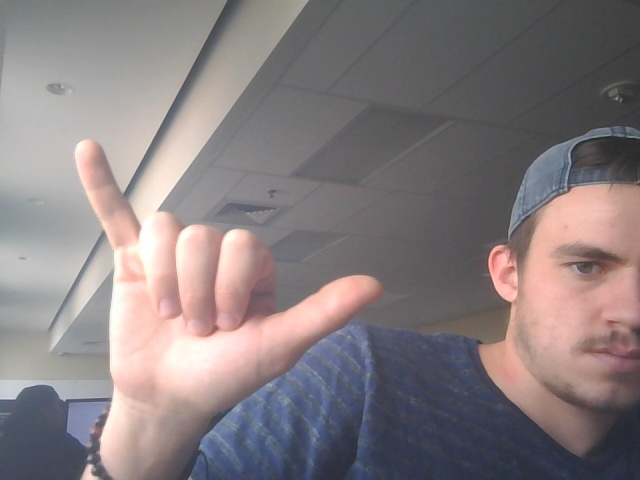birdsup: (62, 130, 389, 410)
